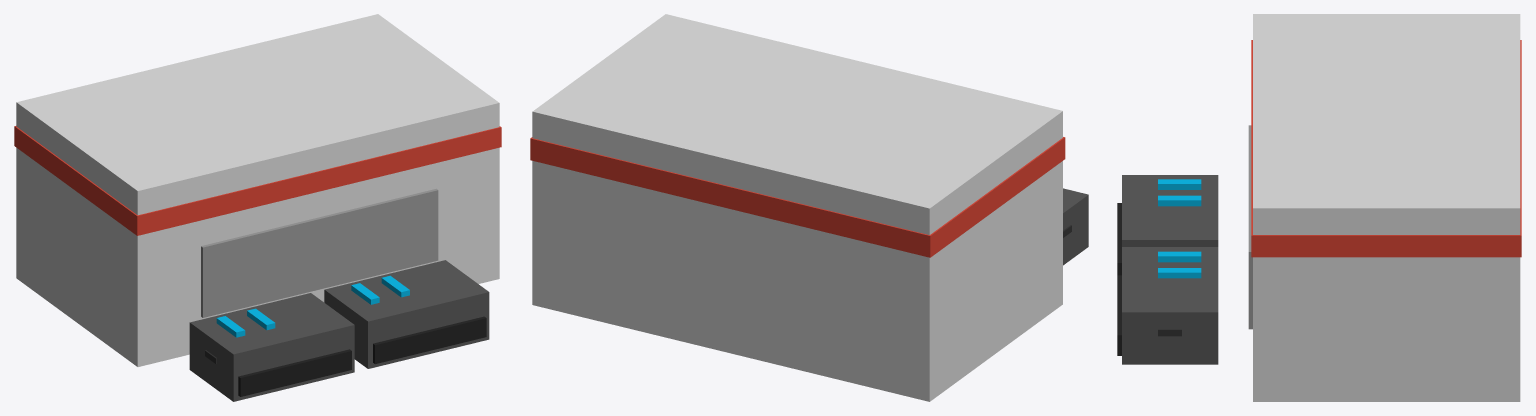
File: ce_ammo2_plasmap_std_c.obj
3 views of the same model, side by side, from view 1: azimuth 30°, elevation 25°; view 2: azimuth 150°, elevation 25°; view 3: azimuth 270°, elevation 25° (orthographic). The views are drawn at different scales.
Visible parts, largest first — view 1: ce_ammo2_plasmap_std_c_0, ce_ammo2_plasmap_std_c_2, ce_ammo2_plasmap_std_c_1, ce_ammo2_plasmap_std_c_8, ce_ammo2_plasmap_std_c_3, ce_ammo2_plasmap_std_c_9, ce_ammo2_plasmap_std_c_4; view 2: ce_ammo2_plasmap_std_c_0, ce_ammo2_plasmap_std_c_1, ce_ammo2_plasmap_std_c_8; view 3: ce_ammo2_plasmap_std_c_0, ce_ammo2_plasmap_std_c_3, ce_ammo2_plasmap_std_c_1, ce_ammo2_plasmap_std_c_8, ce_ammo2_plasmap_std_c_2, ce_ammo2_plasmap_std_c_6, ce_ammo2_plasmap_std_c_12, ce_ammo2_plasmap_std_c_11, ce_ammo2_plasmap_std_c_7, ce_ammo2_plasmap_std_c_4, ce_ammo2_plasmap_std_c_9.
Boxes of the visible parts, box(x1,y1,x2,y2) form: ce_ammo2_plasmap_std_c_0: box(16, 14, 499, 366); ce_ammo2_plasmap_std_c_2: box(201, 188, 438, 317); ce_ammo2_plasmap_std_c_1: box(14, 126, 501, 235); ce_ammo2_plasmap_std_c_8: box(189, 293, 354, 401); ce_ammo2_plasmap_std_c_3: box(324, 260, 489, 368); ce_ammo2_plasmap_std_c_9: box(238, 349, 351, 396); ce_ammo2_plasmap_std_c_4: box(373, 316, 486, 364); ce_ammo2_plasmap_std_c_0: box(532, 14, 1062, 401); ce_ammo2_plasmap_std_c_1: box(530, 137, 1065, 257); ce_ammo2_plasmap_std_c_8: box(1063, 188, 1088, 265); ce_ammo2_plasmap_std_c_0: box(1253, 14, 1520, 401); ce_ammo2_plasmap_std_c_3: box(1122, 247, 1218, 364); ce_ammo2_plasmap_std_c_1: box(1251, 40, 1521, 257); ce_ammo2_plasmap_std_c_8: box(1122, 175, 1218, 246); ce_ammo2_plasmap_std_c_2: box(1248, 125, 1252, 329); ce_ammo2_plasmap_std_c_6: box(1158, 251, 1201, 262); ce_ammo2_plasmap_std_c_12: box(1158, 195, 1201, 206); ce_ammo2_plasmap_std_c_11: box(1158, 179, 1201, 189); ce_ammo2_plasmap_std_c_7: box(1158, 268, 1201, 278); ce_ammo2_plasmap_std_c_4: box(1117, 275, 1121, 355); ce_ammo2_plasmap_std_c_9: box(1117, 203, 1121, 275).
Size of the model in its own units: 0.866 by 0.4 by 0.757.
